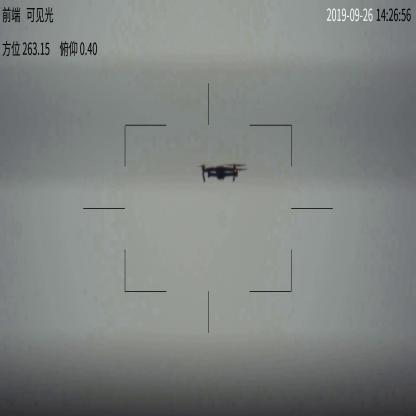uav: (192, 160, 245, 184)
